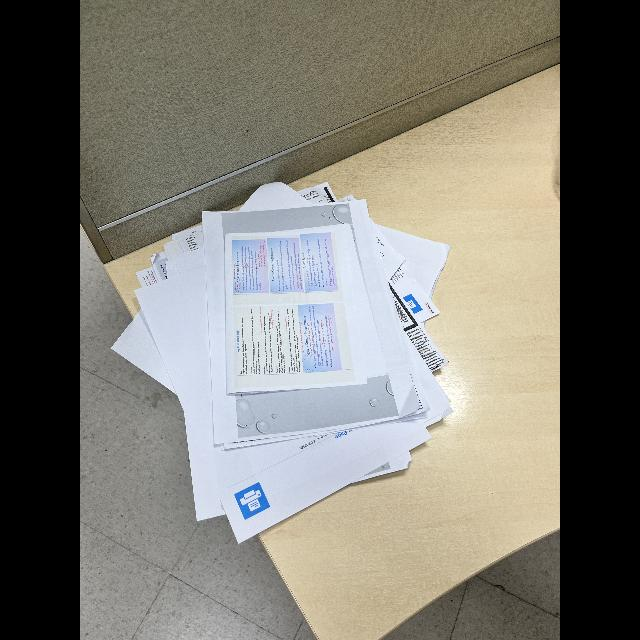reuseable_paper: (108, 180, 448, 550)
